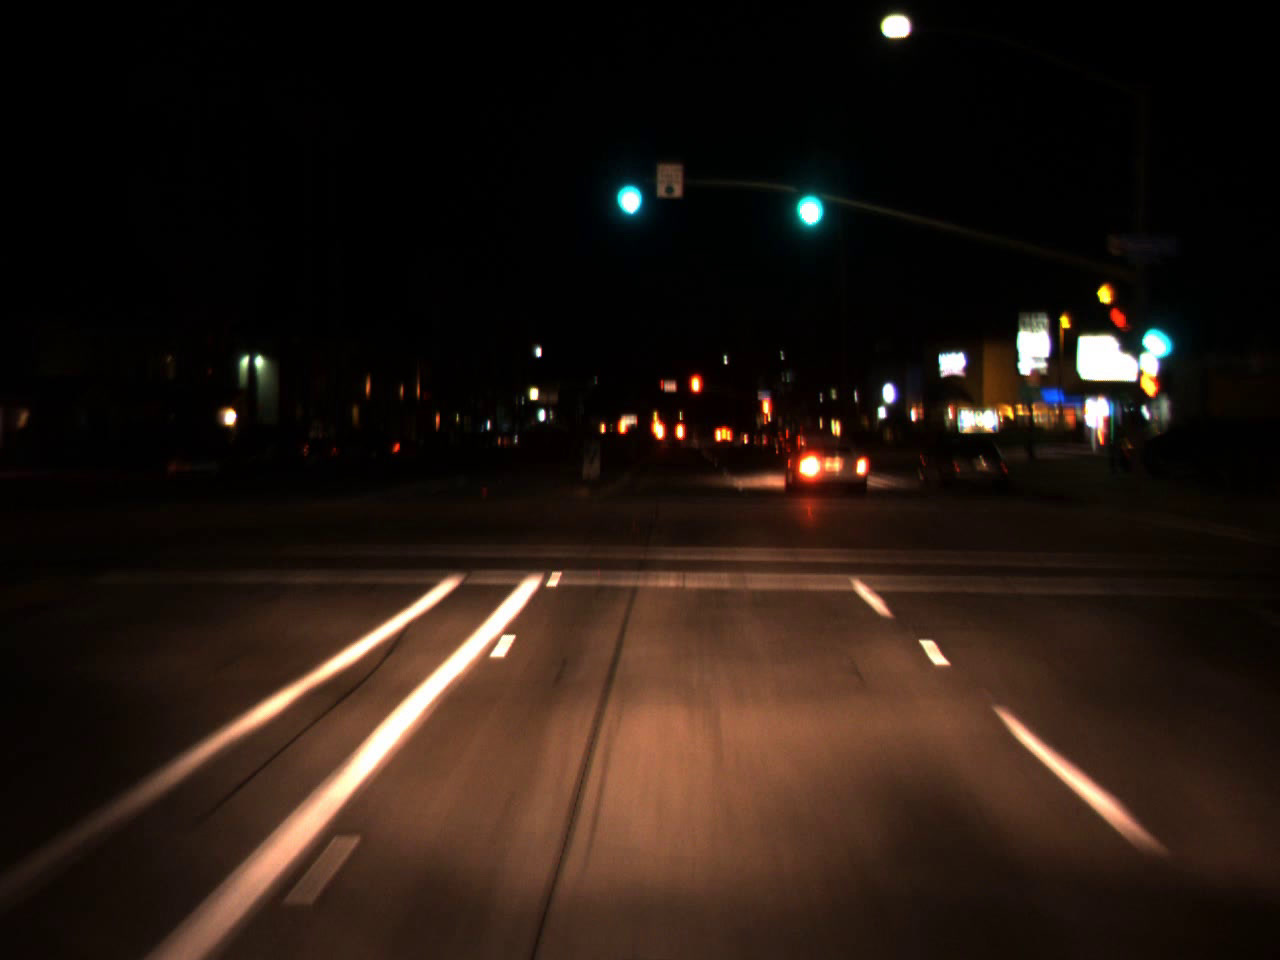go: (784, 155, 829, 239), (606, 148, 647, 226), (1130, 298, 1171, 364)
stop: (688, 372, 703, 415), (759, 394, 772, 437)
